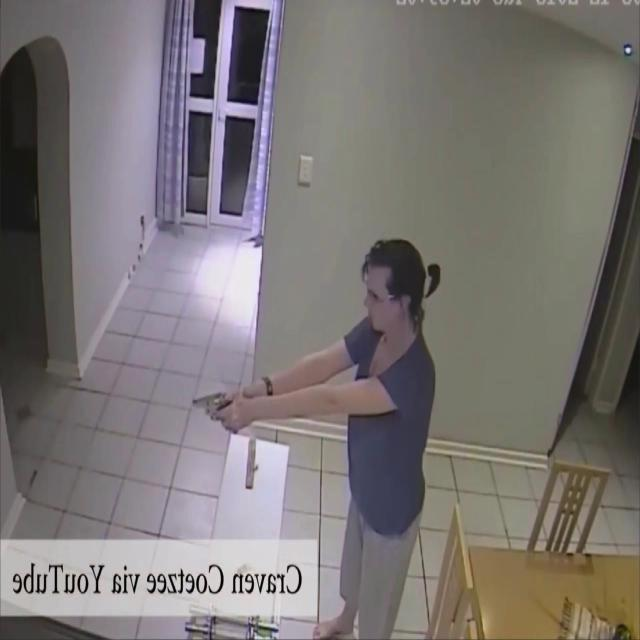weapon: (192, 392, 238, 437)
